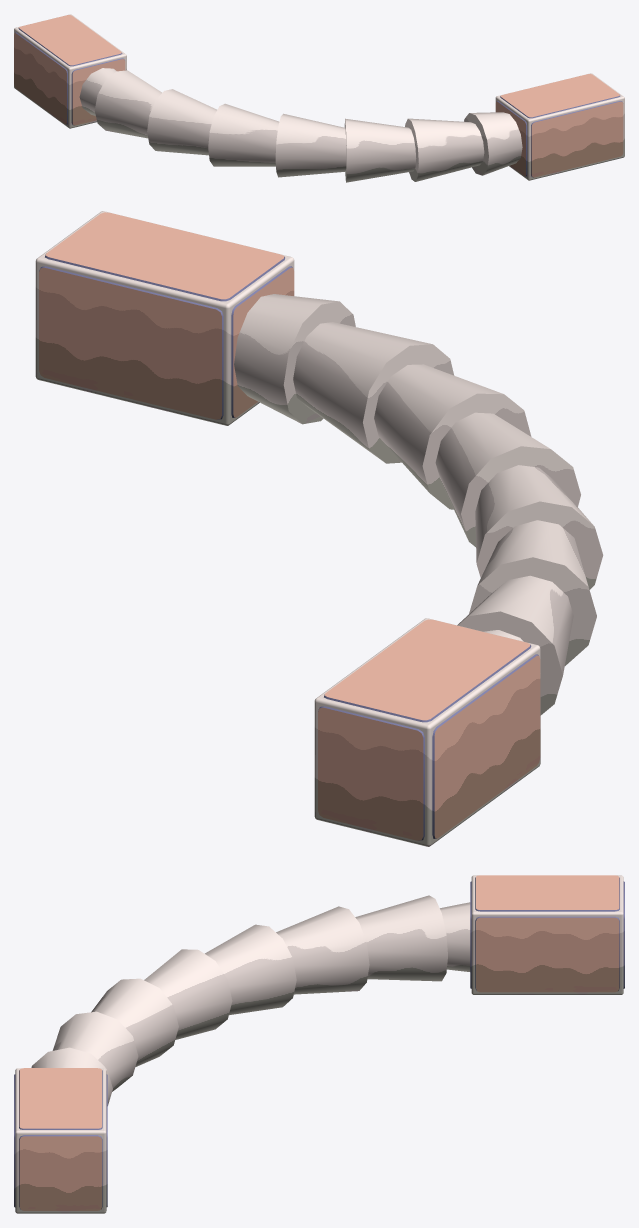
The model's file is R4C_ROD_ARC_LONG.glb.
The picture shows the model from 3 angles, top to bottom: view 1: azimuth 30°, elevation 25°; view 2: azimuth 150°, elevation 25°; view 3: azimuth 270°, elevation 25°; orthographic projection. The views are drawn at different scales.
Parts seen in each view (by area): view 1: R4C_ROD_ARC_LONG; view 2: R4C_ROD_ARC_LONG; view 3: R4C_ROD_ARC_LONG.
Boxes of the visible parts, x1=… form: R4C_ROD_ARC_LONG: x1=14, y1=14, x2=624, y2=182; R4C_ROD_ARC_LONG: x1=35, y1=211, x2=603, y2=846; R4C_ROD_ARC_LONG: x1=14, y1=875, x2=624, y2=1213.
Bounding box in the file's own units: 1.47 × 0.226 × 1.47.
3 materials, 3 textured.
